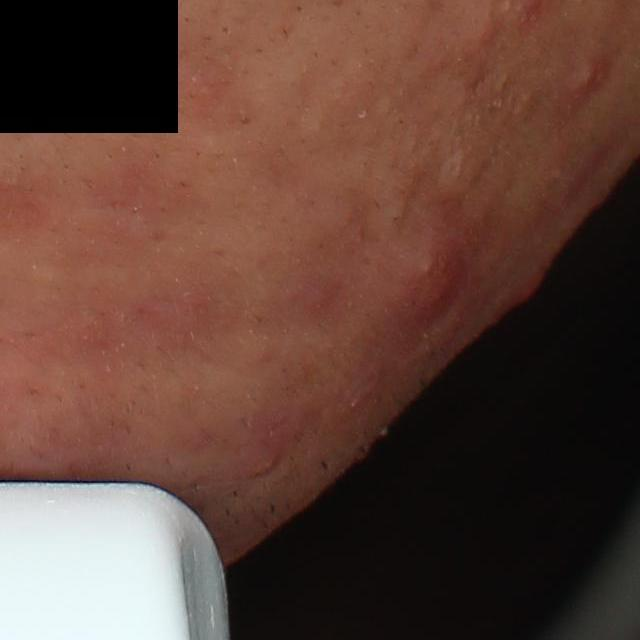papule: (362, 224, 472, 352), (508, 259, 553, 309), (577, 50, 609, 93), (467, 15, 499, 55)
